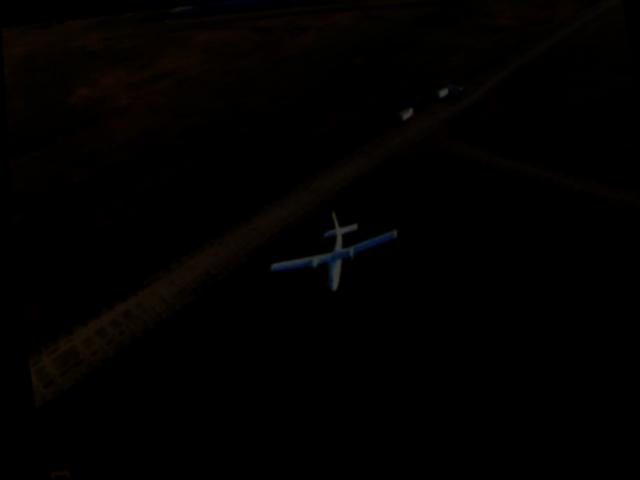uav: (259, 205, 402, 304)
